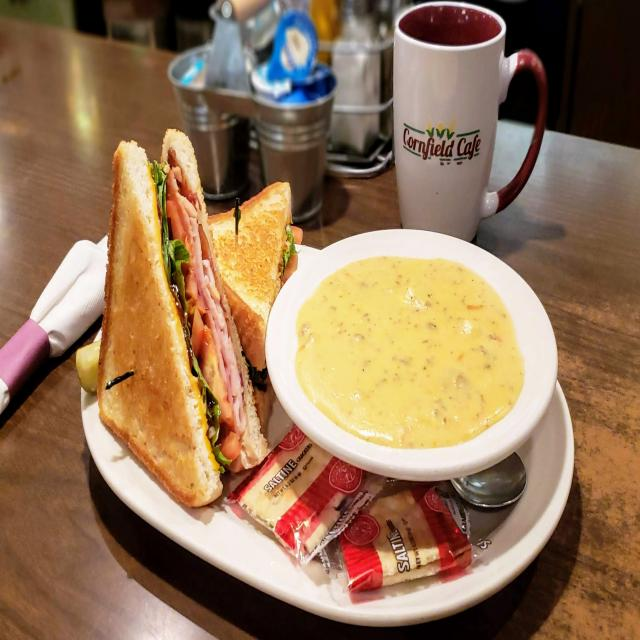Sandwich: (96, 114, 274, 512)
